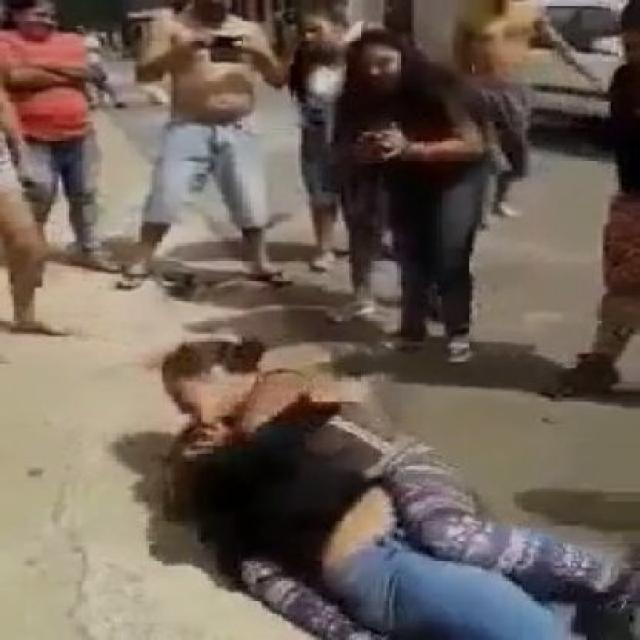fight: (127, 336, 638, 638)
non-fight: (311, 24, 511, 364), (114, 0, 294, 302), (0, 0, 122, 285)
